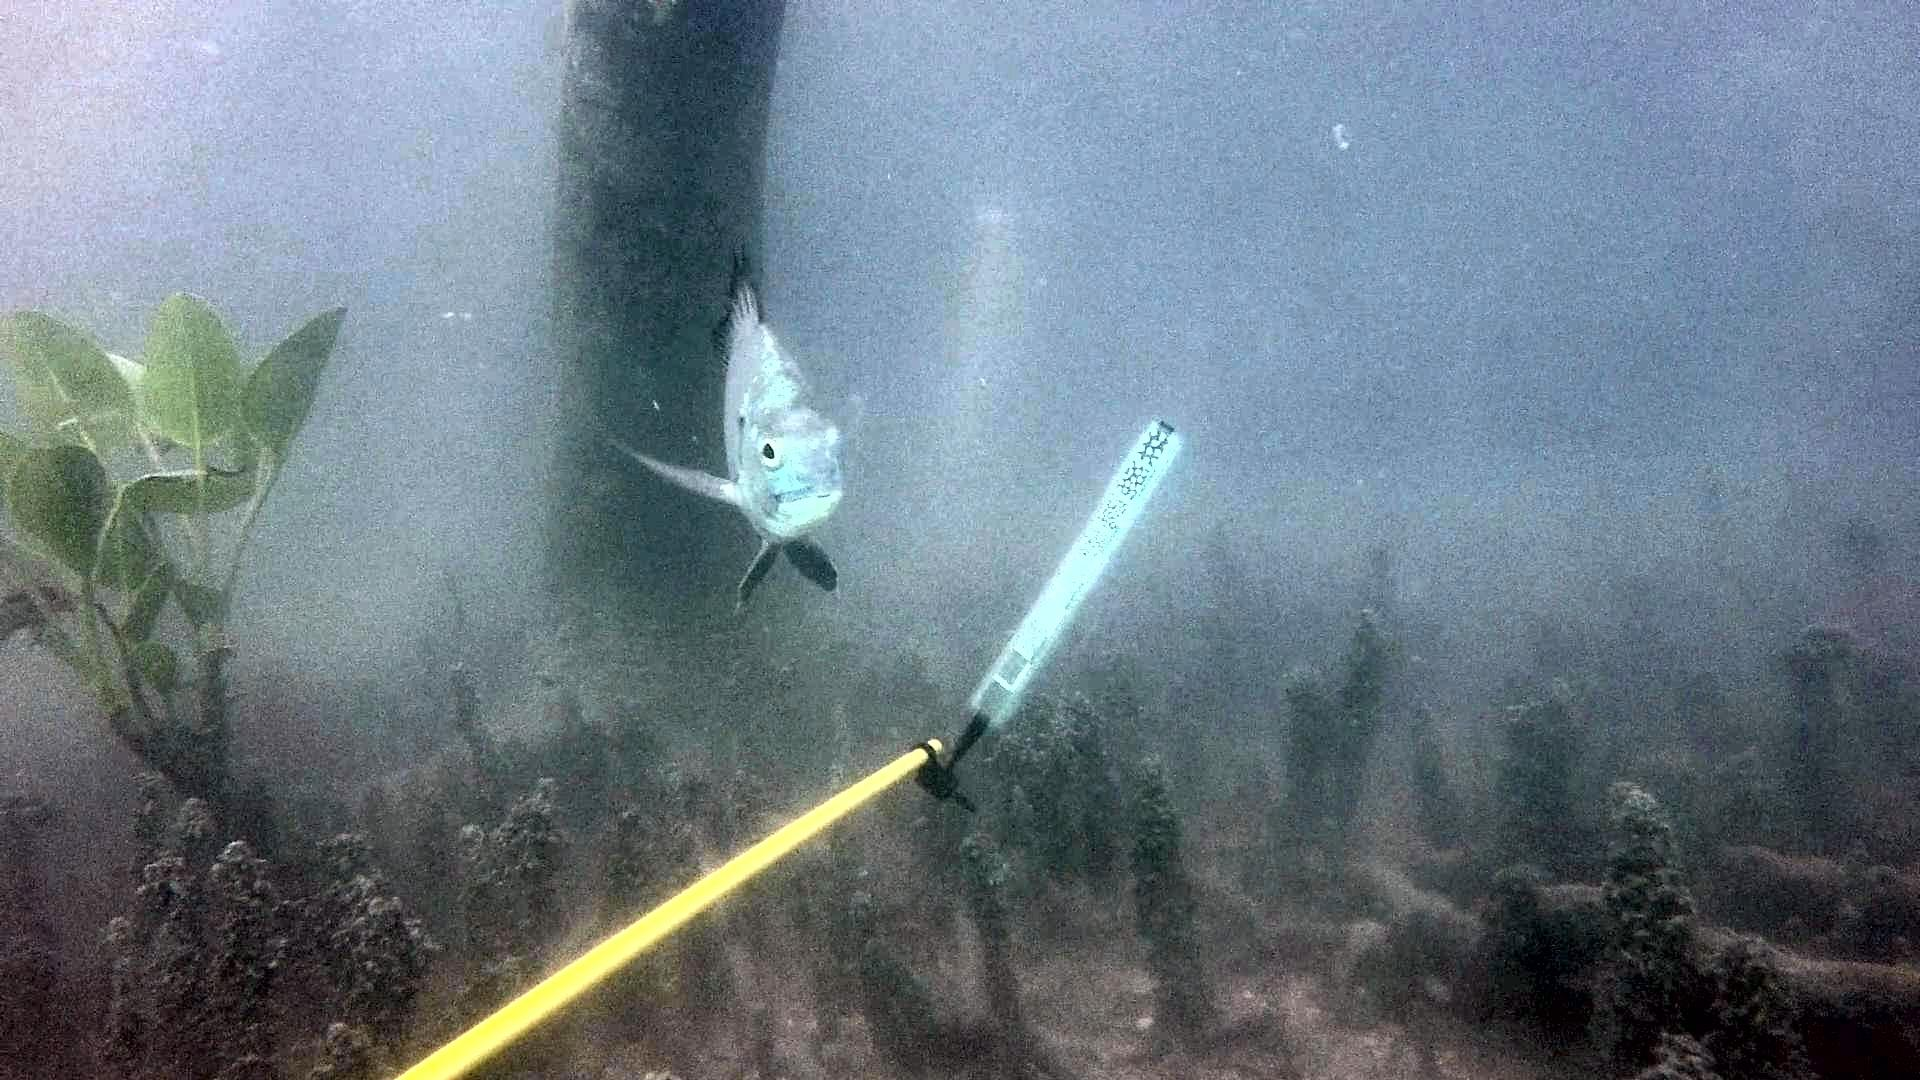acanthopagrus palmaris: (599, 228, 914, 618)
